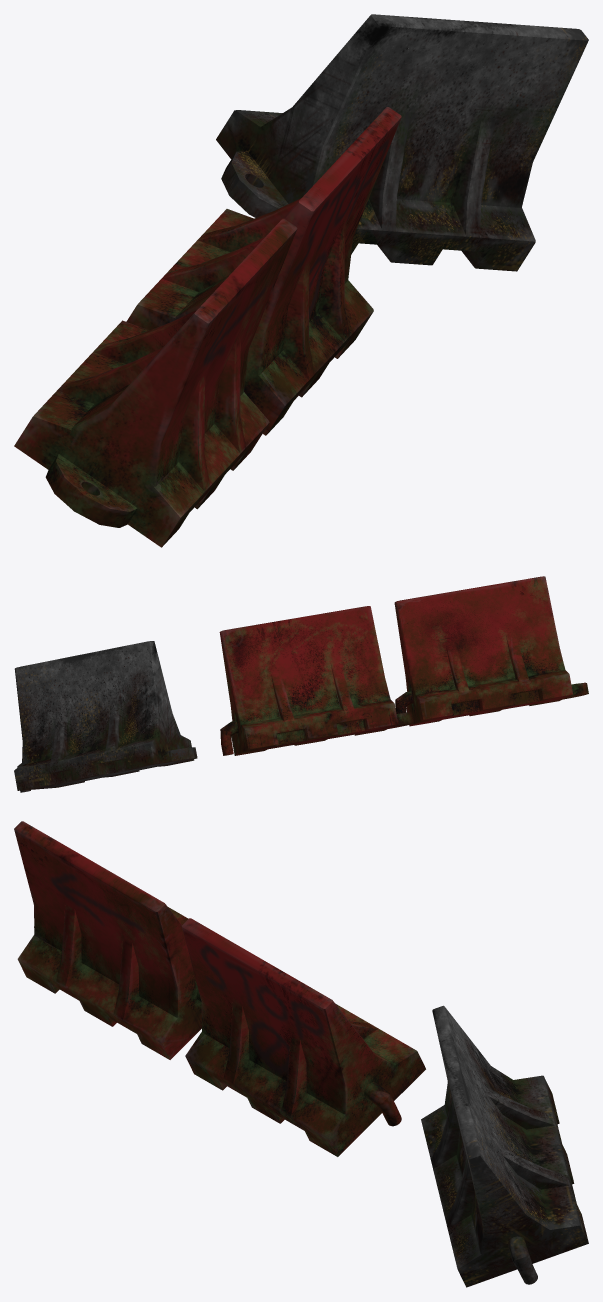
Rendered from GumBarricade.fbx.
3 views of the same model, one above another, from view 1: azimuth 30°, elevation 25°; view 2: azimuth 150°, elevation 25°; view 3: azimuth 270°, elevation 25° (orthographic). The views are drawn at different scales.
Visible parts, largest first — view 1: Cube_002_Cube_001, Cube_001_Cube_007, Cube_000; view 2: Cube_000, Cube_001_Cube_007, Cube_002_Cube_001; view 3: Cube_000, Cube_002_Cube_001, Cube_001_Cube_007.
Boxes of the visible parts, x1=… form: Cube_002_Cube_001: x1=216, y1=14, x2=588, y2=271; Cube_001_Cube_007: x1=14, y1=218, x2=297, y2=547; Cube_000: x1=126, y1=107, x2=401, y2=435; Cube_000: x1=219, y1=606, x2=413, y2=755; Cube_001_Cube_007: x1=394, y1=576, x2=588, y2=726; Cube_002_Cube_001: x1=14, y1=641, x2=197, y2=792; Cube_000: x1=182, y1=918, x2=425, y2=1156; Cube_002_Cube_001: x1=421, y1=1005, x2=588, y2=1287; Cube_001_Cube_007: x1=14, y1=821, x2=201, y2=1059.
Size of the model in its own units: 913 by 356 by 762.
